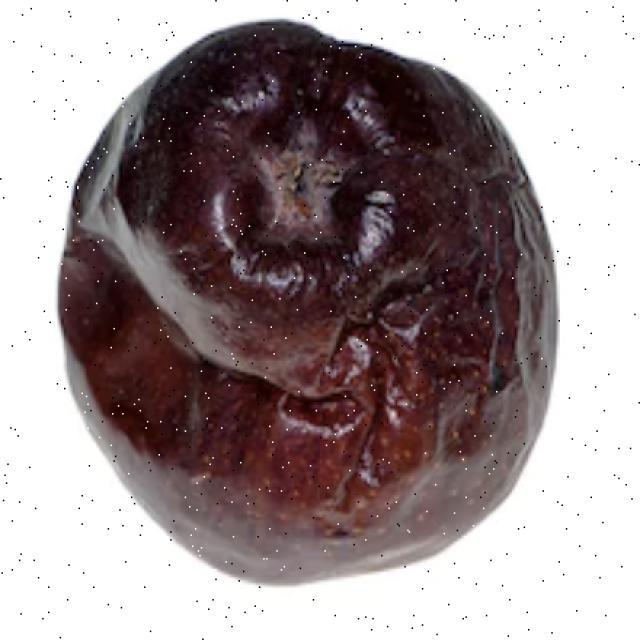Rotten: (85, 33, 562, 582)
